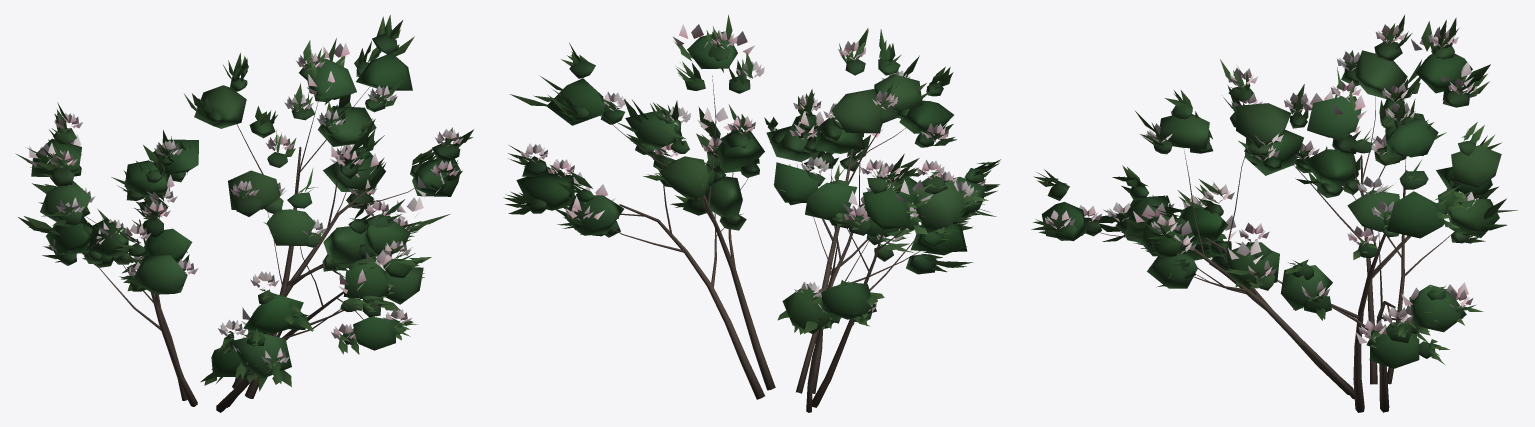
The model's file is rhododendron.glb.
3 views of the same model, side by side, from view 1: azimuth 30°, elevation 25°; view 2: azimuth 150°, elevation 25°; view 3: azimuth 270°, elevation 25° (orthographic). The views are drawn at different scales.
Parts seen in each view (by area): view 1: rhododendron-lo, rhododendron; view 2: rhododendron-lo, rhododendron; view 3: rhododendron-lo, rhododendron.
Boxes of the visible parts, x1,y1,x2,y2 form: rhododendron-lo: (15,16,460,411); rhododendron: (30,15,473,412); rhododendron-lo: (509,24,999,412); rhododendron: (503,14,1000,412); rhododendron-lo: (1041,21,1517,412); rhododendron: (1031,15,1495,412).
Size of the model in its own units: 4.82 by 3.56 by 4.24.
